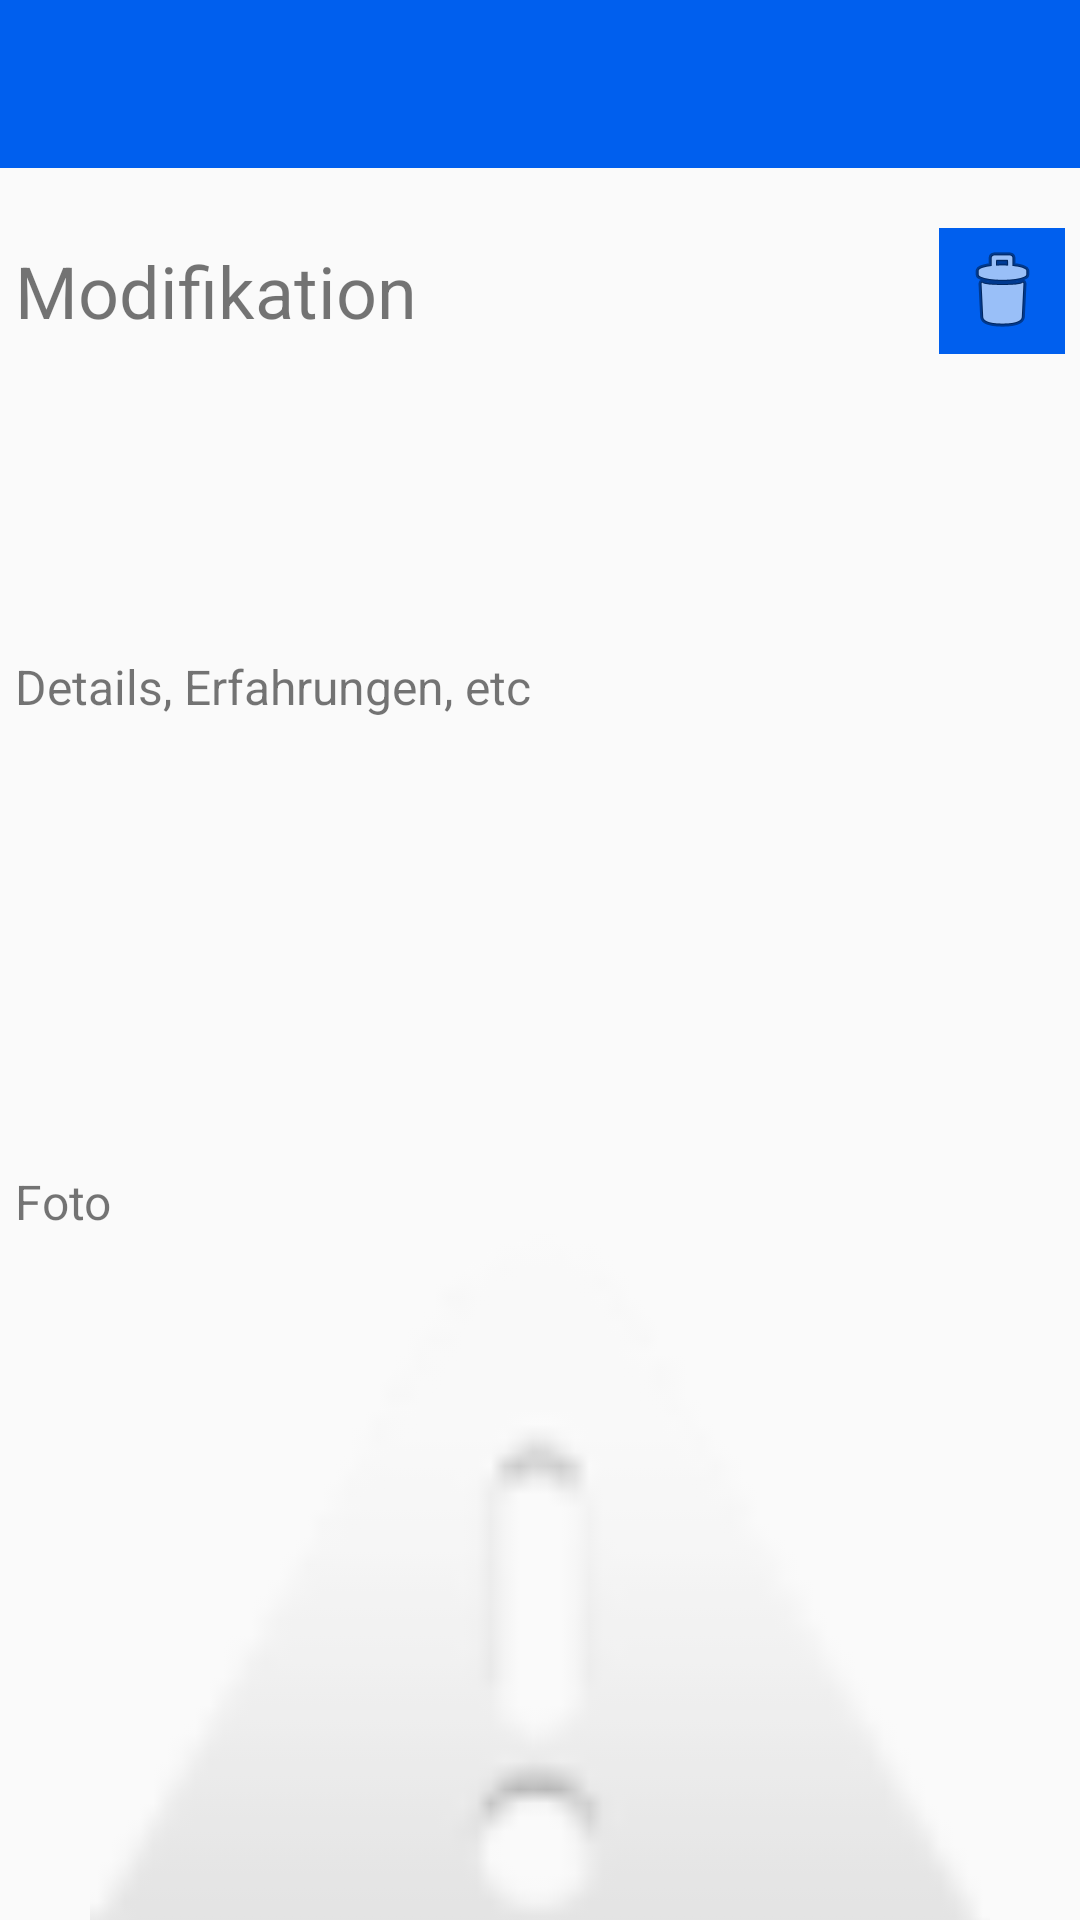

Icon click points for this 1080px x 1920px phone screenshot, format point (x, y):
delete: point (1002, 291)
